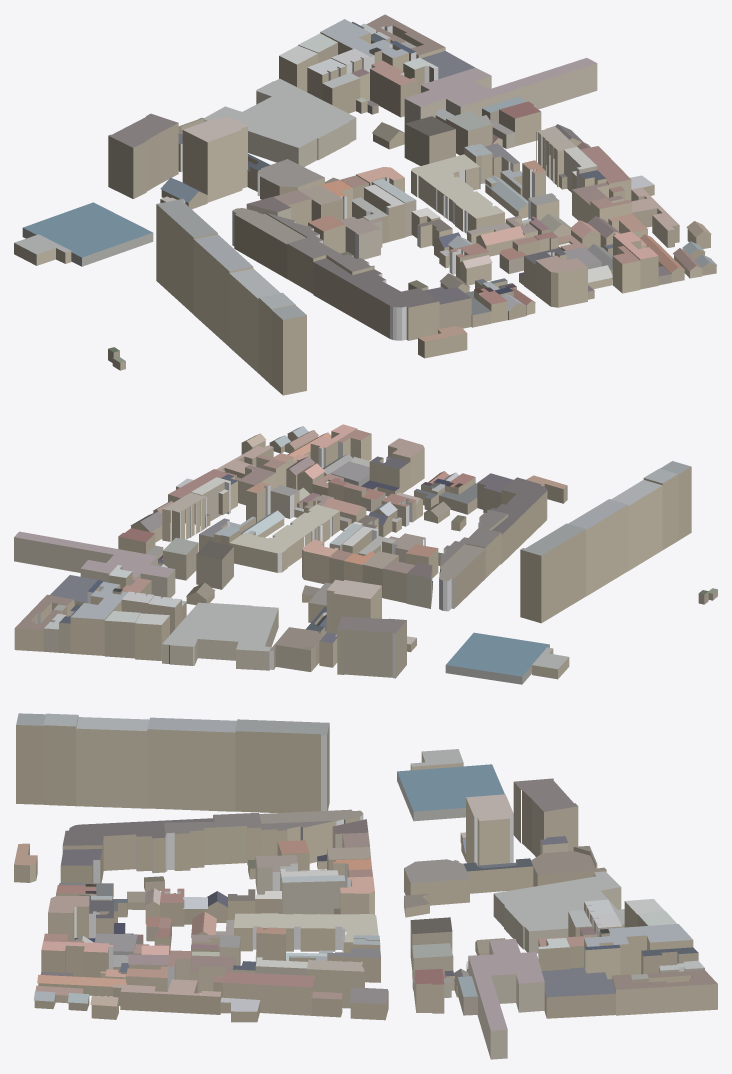
3 renders of one model, top to bottom at view 1: azimuth 30°, elevation 25°; view 2: azimuth 150°, elevation 25°; view 3: azimuth 270°, elevation 25°, orthographic. The views are drawn at different scales.
Parts seen in each view (by area): view 1: tuile; view 2: tuile; view 3: tuile.
Part boxes in pixels (x1,y1,x2,y2): tuile: (14,14,717,395); tuile: (14,424,717,684); tuile: (14,713,717,1059).
Size of the model in its own units: 285 by 33.05 by 261.
